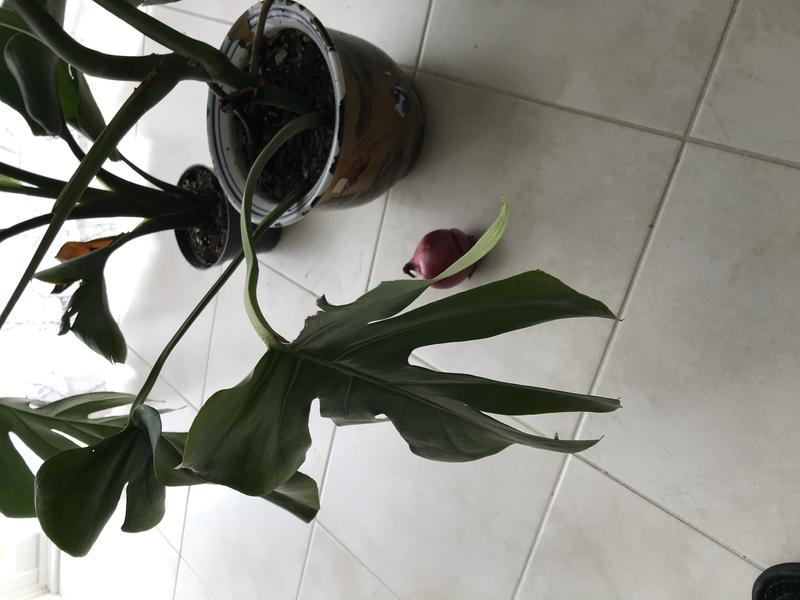purple_onion: (398, 215, 493, 291)
